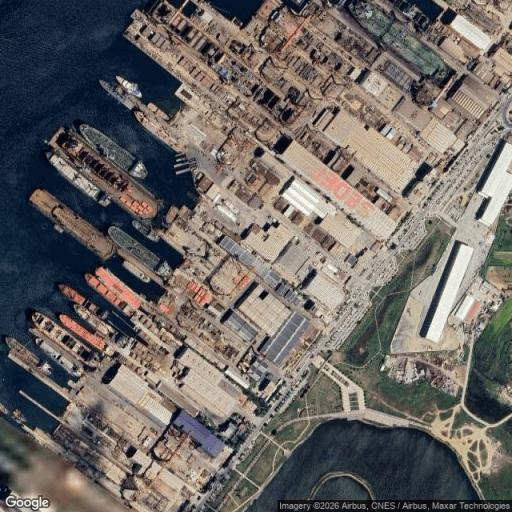ship: (48, 128, 158, 219), (345, 0, 452, 86), (29, 189, 115, 259), (79, 124, 147, 179), (44, 151, 112, 206), (30, 312, 99, 366), (108, 227, 171, 278), (108, 227, 159, 270), (84, 273, 133, 315), (134, 110, 183, 150), (95, 267, 141, 309), (35, 338, 83, 377), (59, 314, 106, 351), (74, 304, 115, 339), (58, 284, 103, 315), (99, 80, 137, 109), (5, 337, 40, 367), (123, 260, 150, 283), (132, 220, 159, 241), (58, 284, 85, 304), (116, 76, 141, 97), (146, 103, 170, 122), (155, 260, 171, 279), (12, 409, 26, 424), (40, 362, 52, 375), (0, 403, 9, 415), (54, 224, 63, 233)
